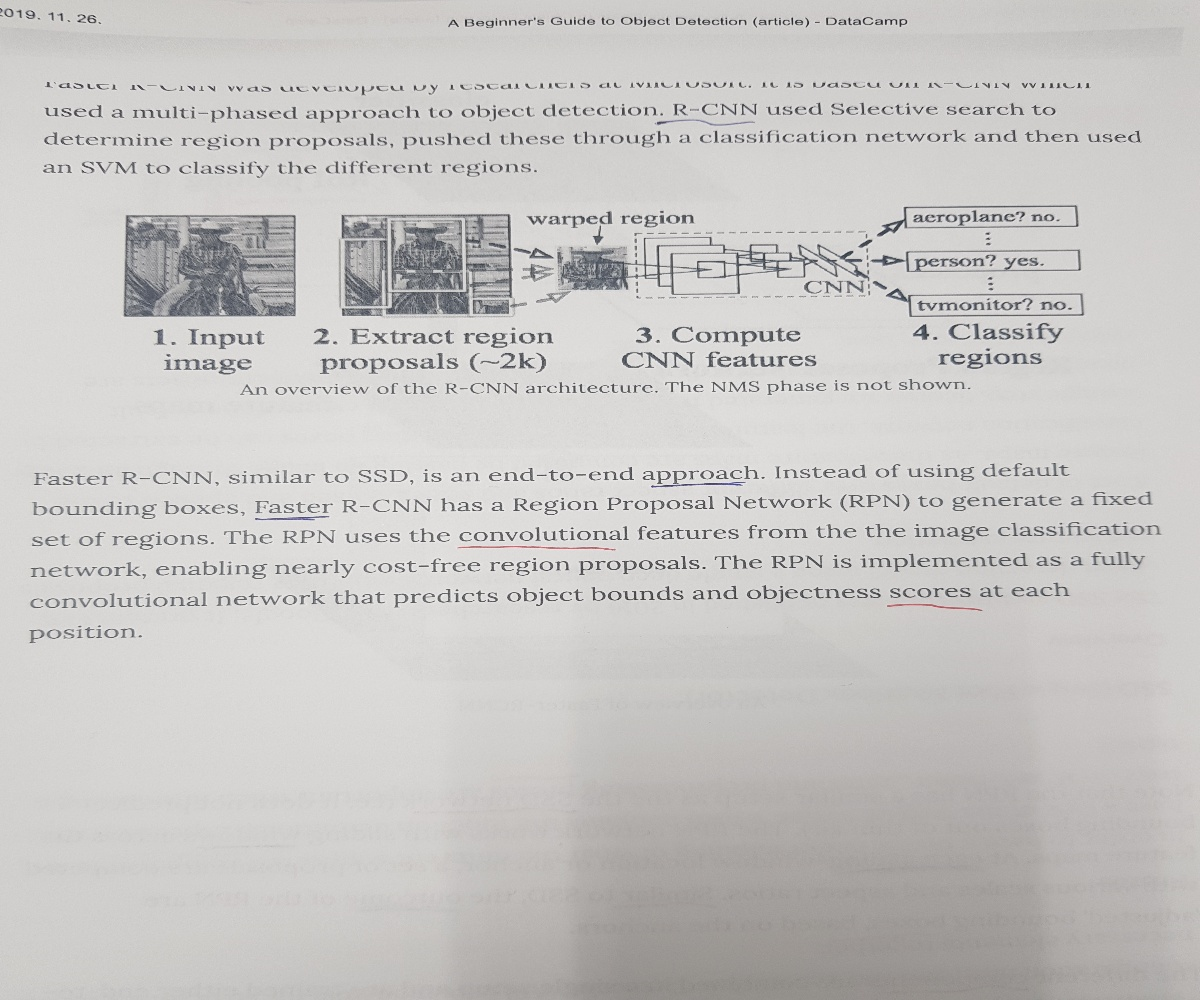underline: (883, 598, 985, 620), (456, 541, 627, 554), (652, 116, 761, 130), (647, 481, 752, 492), (249, 512, 330, 524)
